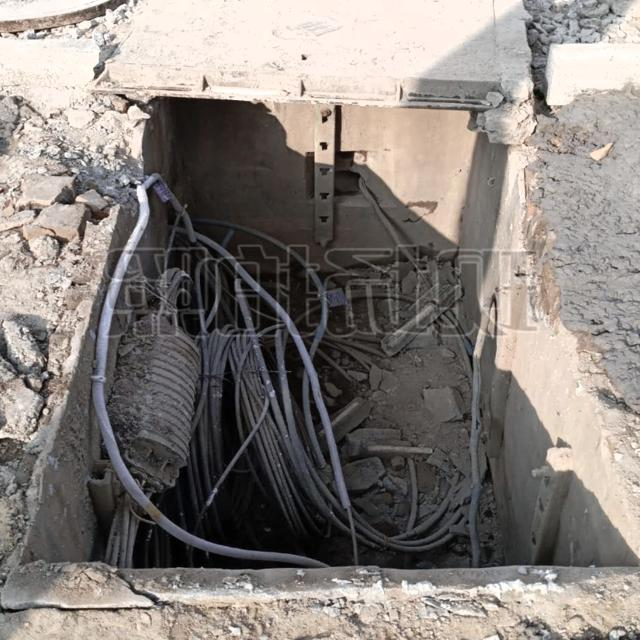lose: (0, 82, 640, 616)
